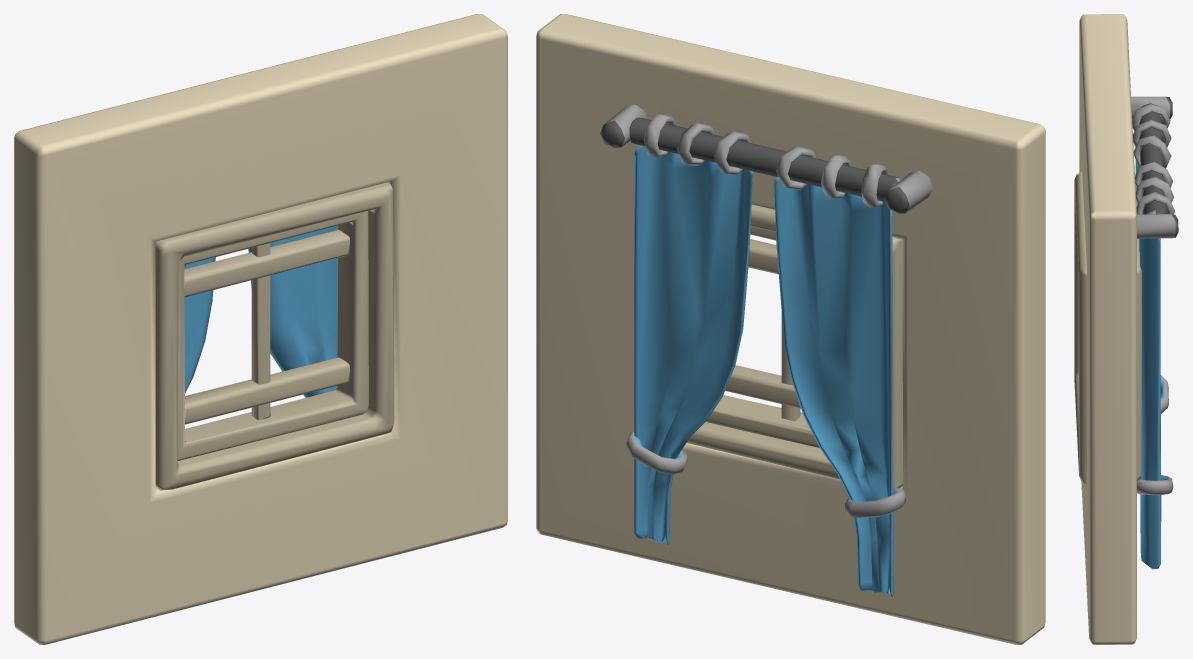
The model's file is window_LOD1.fbx.
3 renders of one model, left to right at view 1: azimuth 30°, elevation 25°; view 2: azimuth 150°, elevation 25°; view 3: azimuth 270°, elevation 25°, orthographic. The views are drawn at different scales.
Parts seen in each view (by area): view 1: window_001; view 2: window_001; view 3: window_001.
Part boxes in pixels (box(x1,y1,x2,y2)): window_001: box(14, 14, 507, 644); window_001: box(536, 14, 1045, 644); window_001: box(1074, 14, 1178, 644).
Size of the model in its own units: 839 by 838 by 182.
